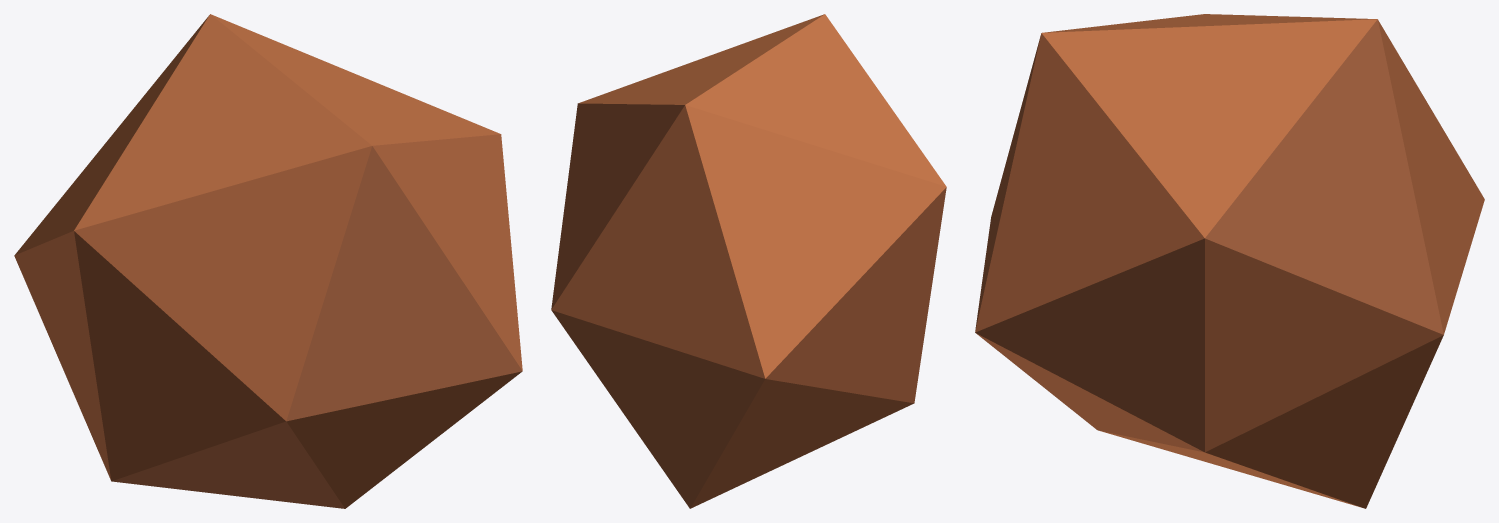
File: SM_Rock_1.glb
The picture shows the model from 3 angles, left to right: view 1: azimuth 30°, elevation 25°; view 2: azimuth 150°, elevation 25°; view 3: azimuth 270°, elevation 25°; orthographic projection. The views are drawn at different scales.
Parts seen in each view (by area): view 1: SM_Rock_1; view 2: SM_Rock_1; view 3: SM_Rock_1.
Boxes of the visible parts, x1=… form: SM_Rock_1: x1=14, y1=14, x2=522, y2=508; SM_Rock_1: x1=551, y1=14, x2=946, y2=508; SM_Rock_1: x1=975, y1=14, x2=1484, y2=508.
Size of the model in its own units: 1.89 by 2 by 1.89.
Materials: 1 (1 with a texture image).
